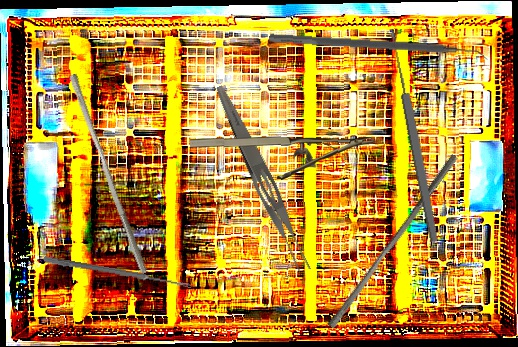Dressing Forceps: (205, 82, 317, 277)
Needle Holder: (189, 133, 373, 182)
Pusher: (326, 149, 459, 333), (61, 73, 156, 275)
Spatula Surgical: (268, 33, 490, 64)
Surgical Spoon: (387, 31, 441, 243), (43, 256, 192, 289)
